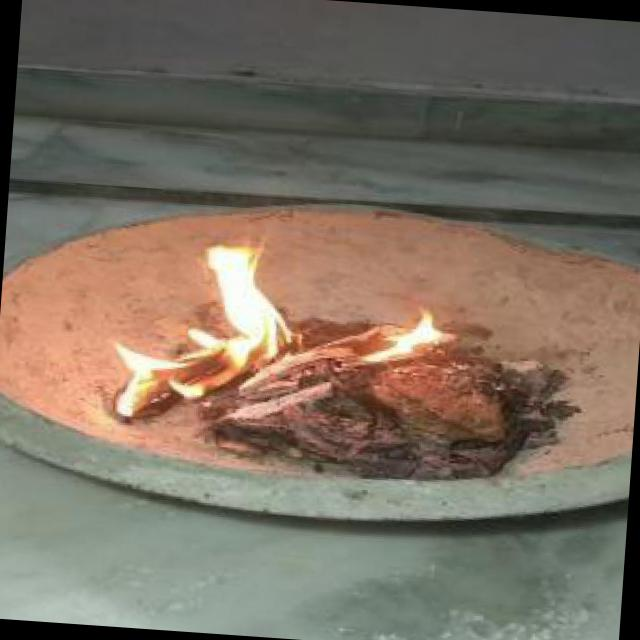fire: (101, 231, 301, 423), (352, 292, 446, 372)
